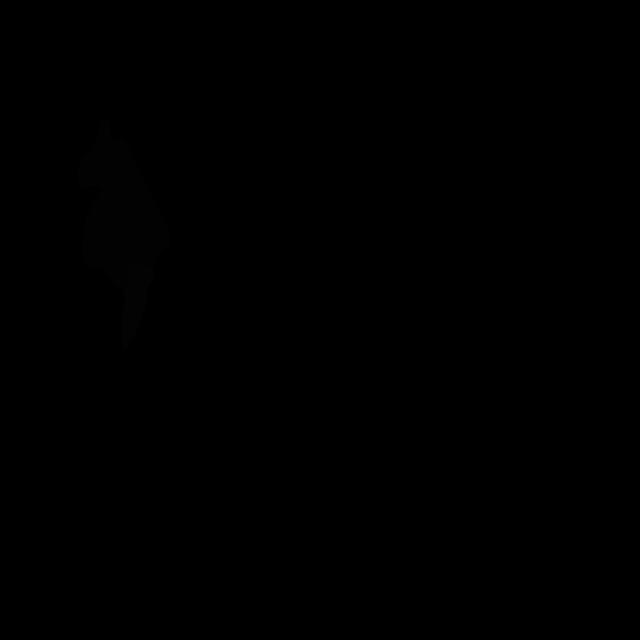cardboard: (77, 117, 170, 291)
metal: (121, 260, 154, 352)
